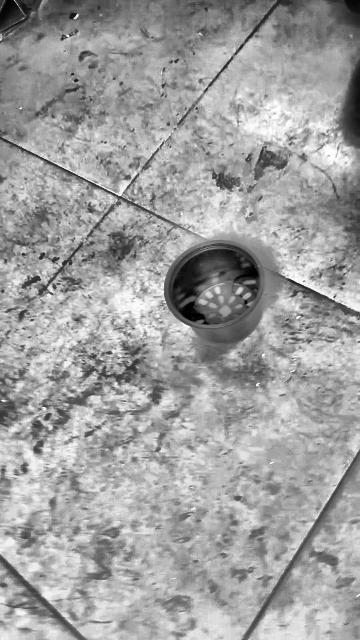pot: (165, 240, 266, 343)
